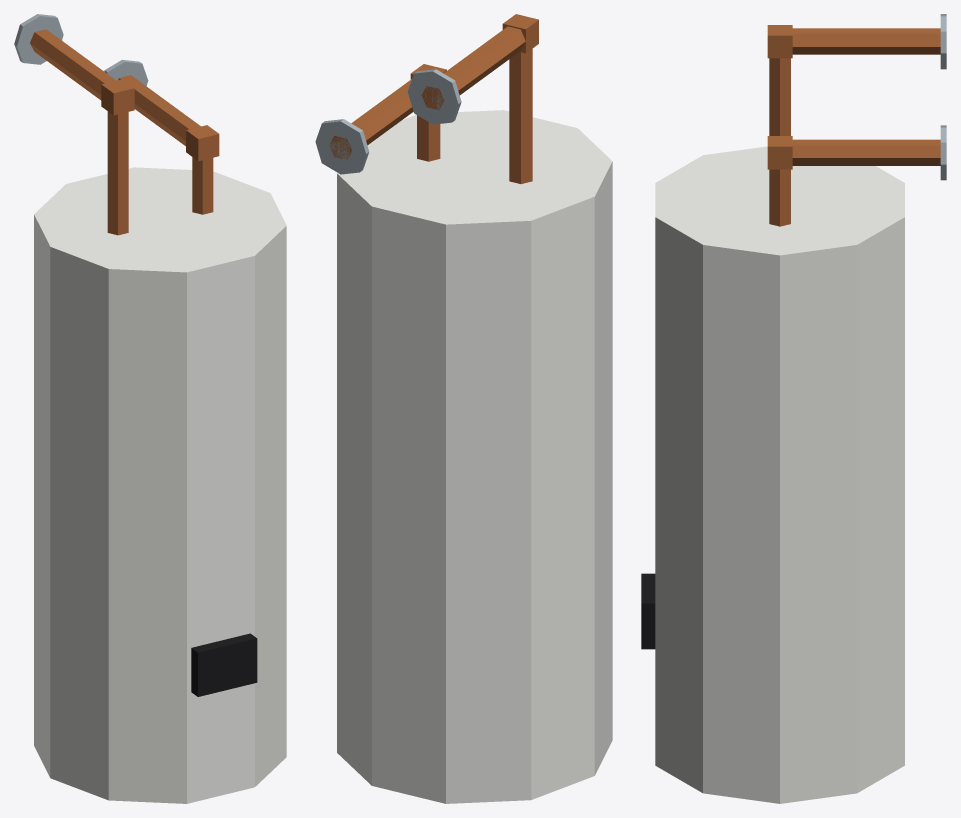
The model's file is GH_WaterHeater_01.glb.
3 renders of one model, left to right at view 1: azimuth 30°, elevation 25°; view 2: azimuth 150°, elevation 25°; view 3: azimuth 270°, elevation 25°, orthographic. The views are drawn at different scales.
Parts seen in each view (by area): view 1: GH_WaterHeater_01; view 2: GH_WaterHeater_01; view 3: GH_WaterHeater_01.
Boxes of the visible parts, x1=… form: GH_WaterHeater_01: x1=14, y1=14, x2=286, y2=803; GH_WaterHeater_01: x1=315, y1=14, x2=612, y2=803; GH_WaterHeater_01: x1=641, y1=14, x2=946, y2=803.
Size of the model in its own units: 0.52 by 1.55 by 0.605.
Materials: 1 (1 with a texture image).
